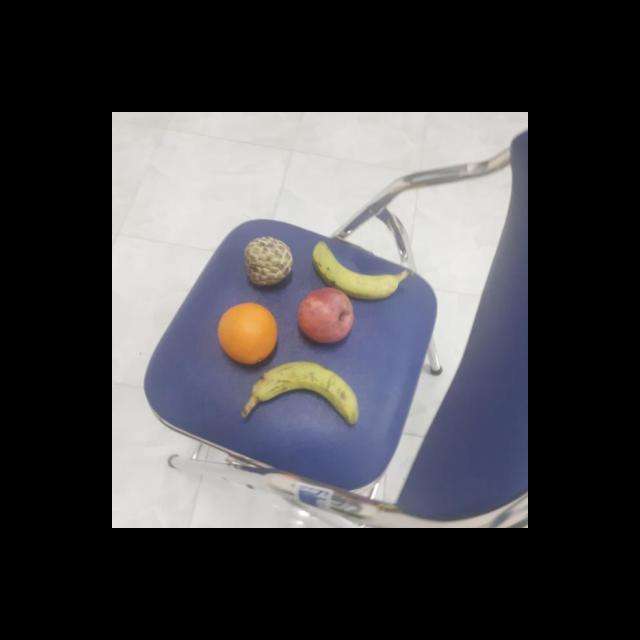Sakya fruit: (240, 234, 296, 285)
apple: (296, 284, 356, 346)
banana: (247, 360, 362, 426), (309, 236, 397, 301)
orange: (217, 300, 280, 363)
